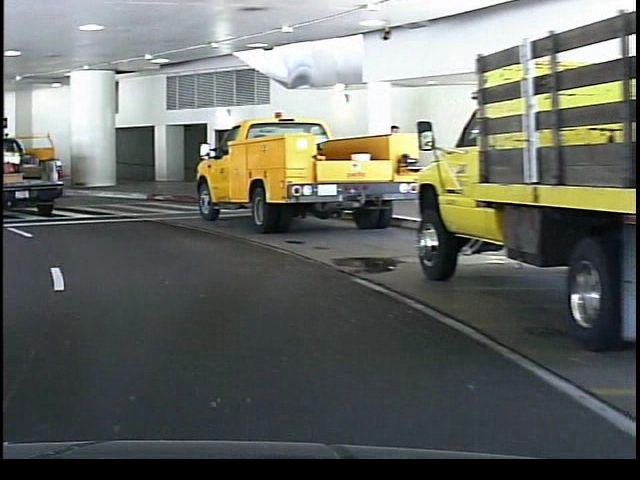person: (380, 118, 408, 206)
